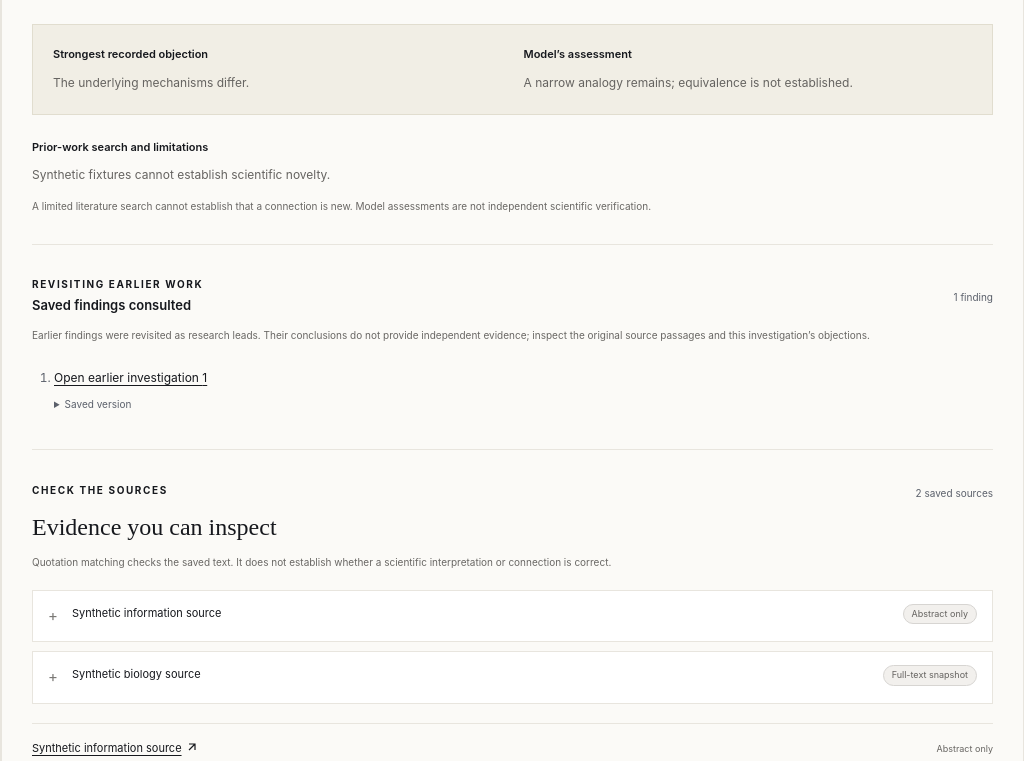
Scenario: recorded research view › shows the exact earlier finding versions as research leads and opens their investigation
(page scrolled)
Expected: the heading "Saved findings consulted" is shown, [32,295,203,316]
Expected: the text "Their conclusions do not provide independent evidence" is shown, [32,330,870,342]
Click the button "Open earlier investigation 1" at (131, 378), box [54,368,207,388]
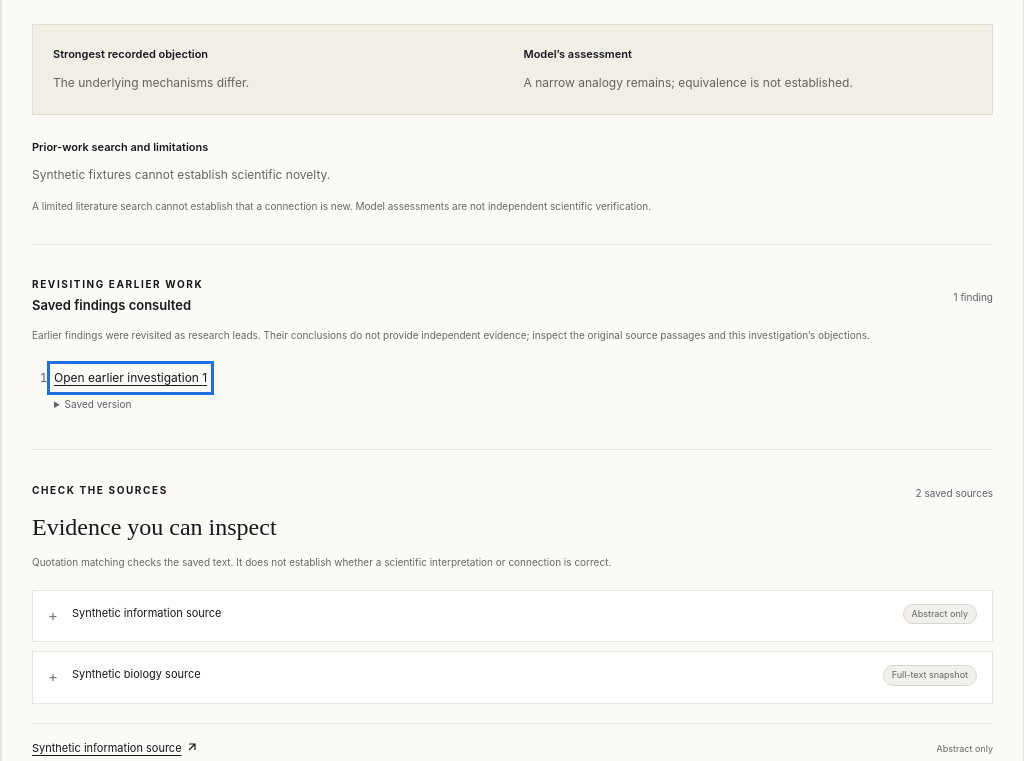
Click the heading "Saved version" at (98, 404), box [65,398,131,410]
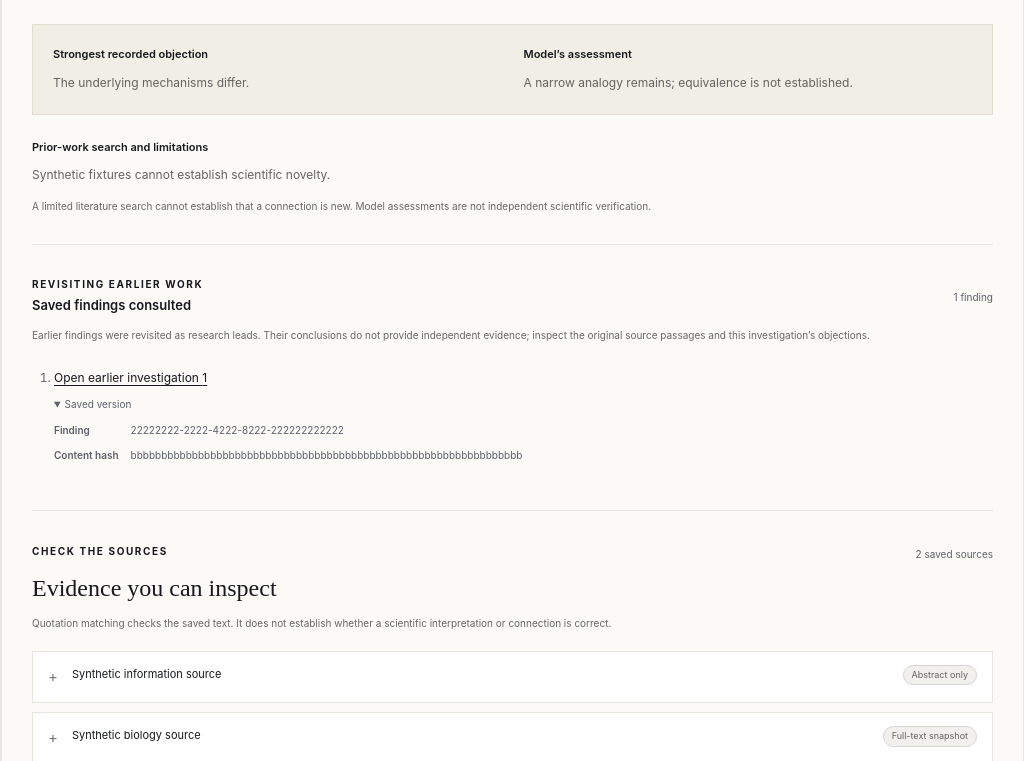
Expected: the text "bbbbbbbbbbbbbbbbbbbbbbbbbbbbbbbbbbbbbbbbbbbbbbbbbbbbbbbbbbbbbbbb" is shown, [131,449,522,461]
